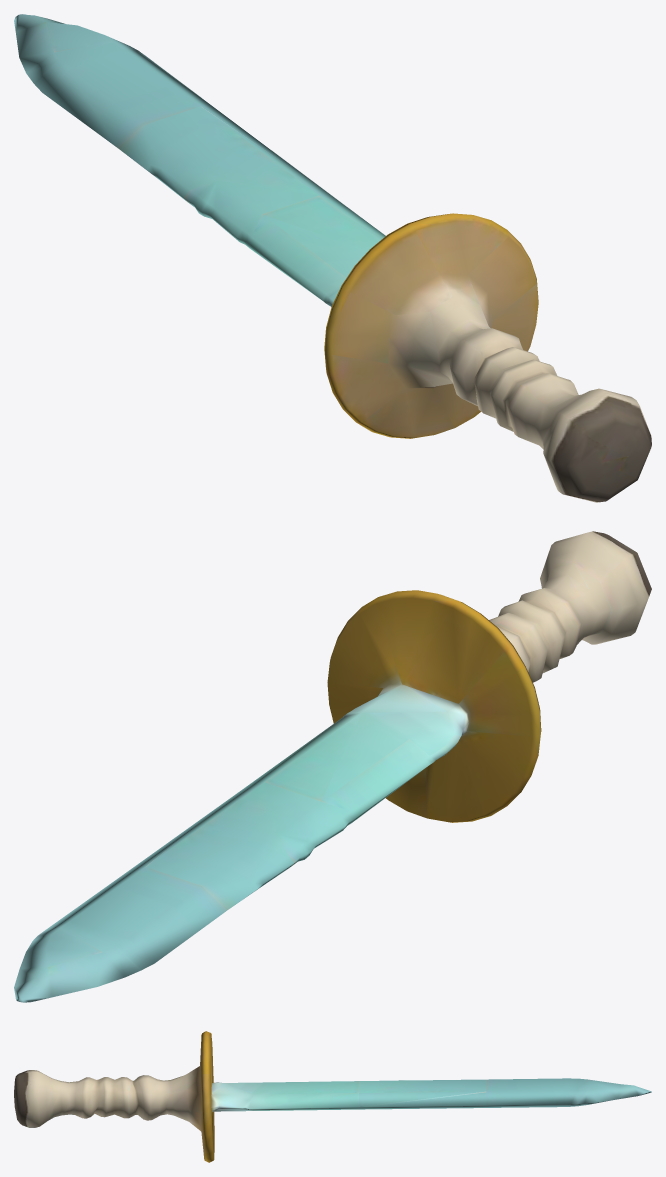
Rendered from f_short_sword.fbx.
The picture shows the model from 3 angles, top to bottom: view 1: azimuth 30°, elevation 25°; view 2: azimuth 150°, elevation 25°; view 3: azimuth 270°, elevation 25°; orthographic projection. The views are drawn at different scales.
Visible parts, largest first — view 1: tripo_node_7600c580-79a3-4501-b73a-1afc39d5c62c; view 2: tripo_node_7600c580-79a3-4501-b73a-1afc39d5c62c; view 3: tripo_node_7600c580-79a3-4501-b73a-1afc39d5c62c.
Boxes of the visible parts, x1,y1,x2,y2 form: tripo_node_7600c580-79a3-4501-b73a-1afc39d5c62c: (14, 14, 651, 502); tripo_node_7600c580-79a3-4501-b73a-1afc39d5c62c: (14, 531, 651, 1002); tripo_node_7600c580-79a3-4501-b73a-1afc39d5c62c: (14, 1031, 651, 1162).
Size of the model in its own units: 0.2182 by 0.2181 by 1.06.
1 material, 1 textured.
